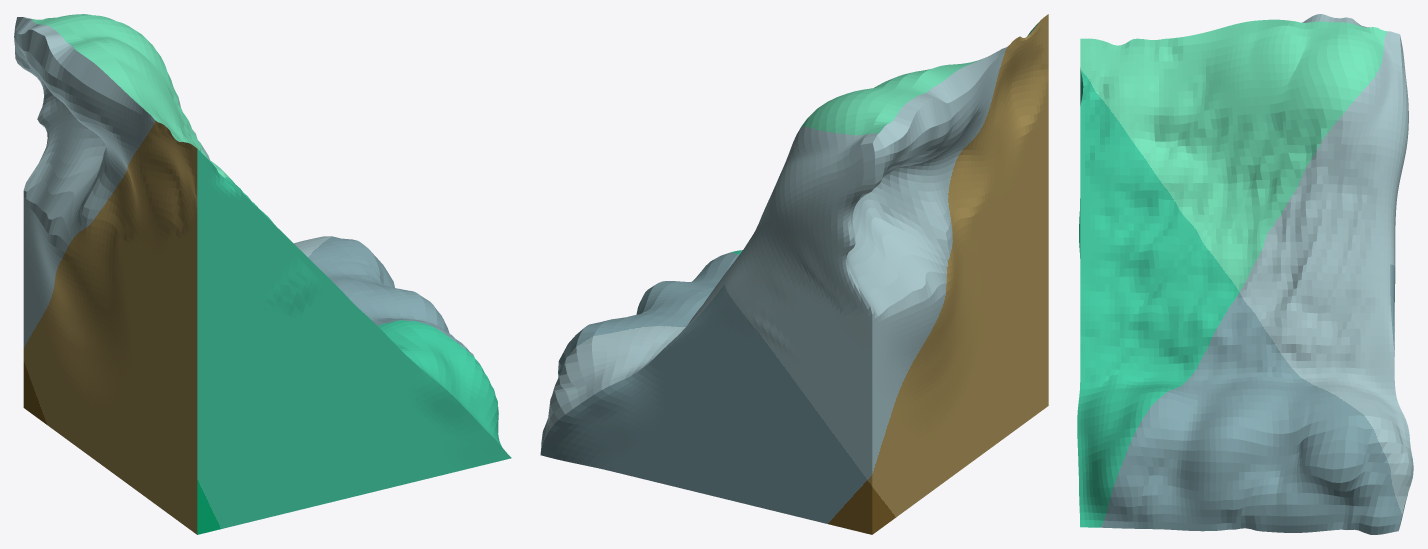
The model's file is slab2.fbx.
3 views of the same model, side by side, from view 1: azimuth 30°, elevation 25°; view 2: azimuth 150°, elevation 25°; view 3: azimuth 270°, elevation 25° (orthographic). The views are drawn at different scales.
Visible parts, largest first — view 1: slab2; view 2: slab2; view 3: slab2.
Boxes of the visible parts, box(x1,y1,x2,y2) form: slab2: box(14, 14, 511, 534); slab2: box(540, 14, 1048, 534); slab2: box(1077, 14, 1413, 534).
Bounding box in the file's own units: 21.75 × 23.47 × 19.39.
